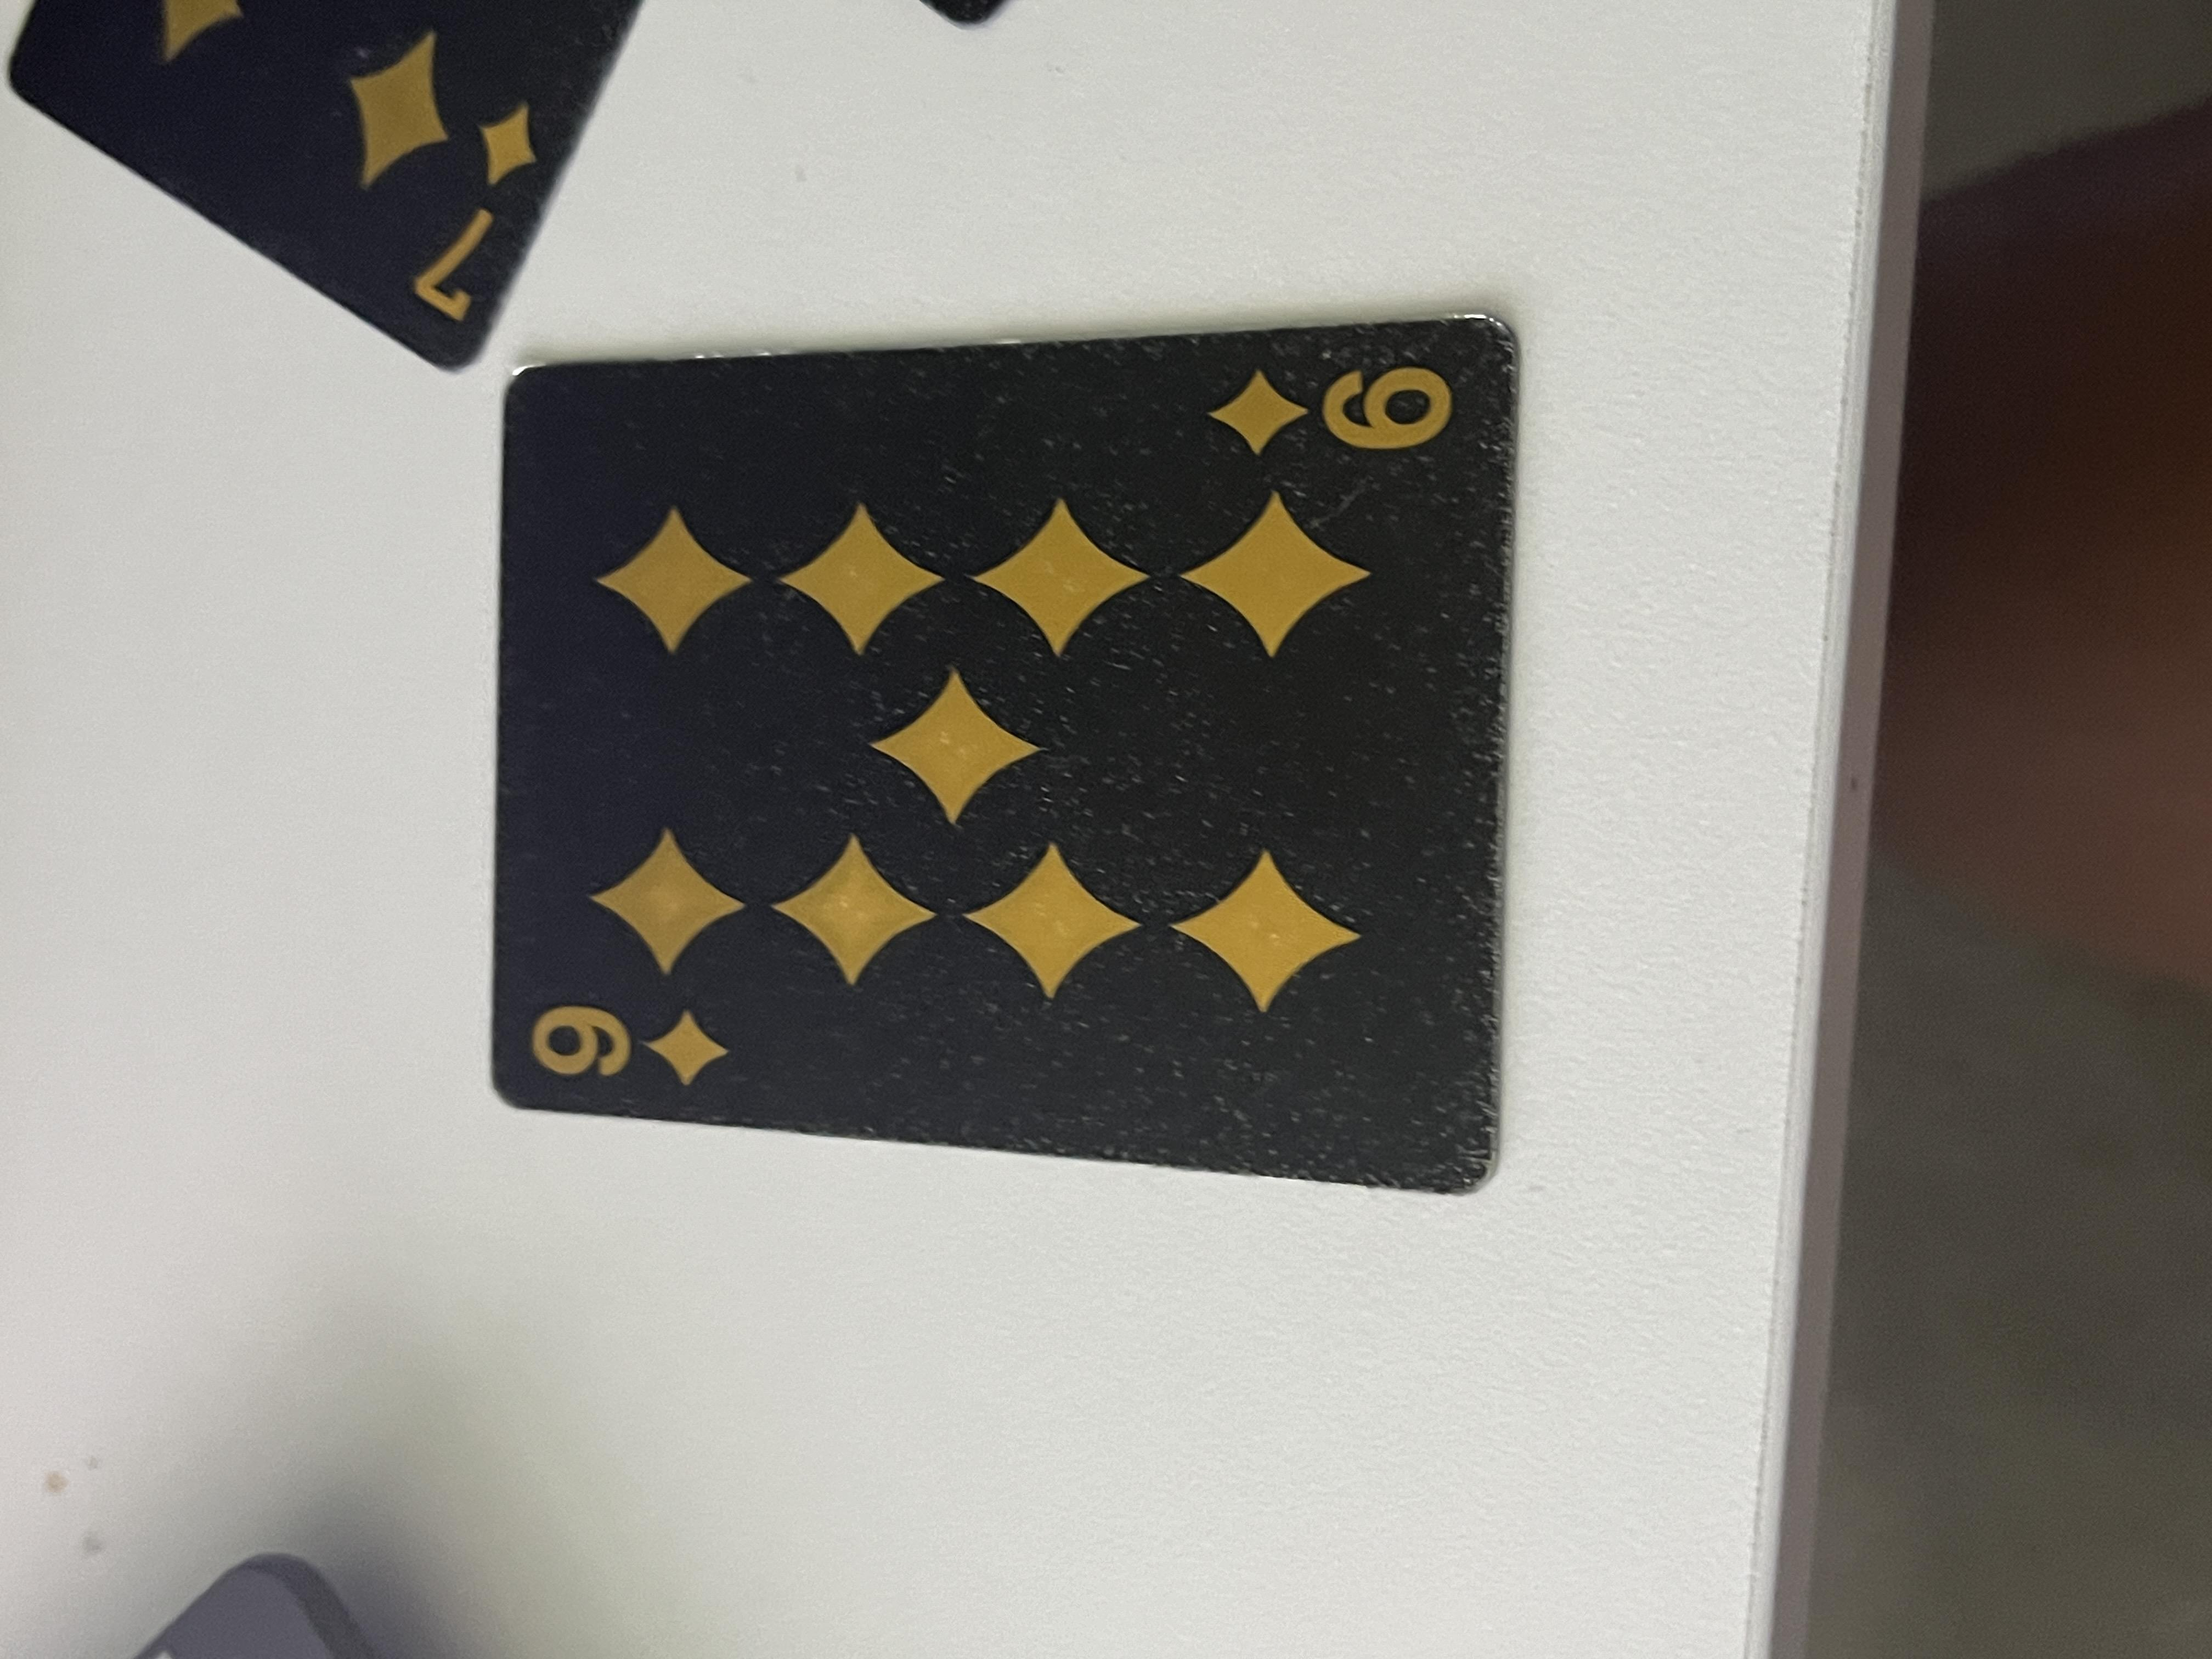7D: (1782, 310, 2099, 420)
9D: (1599, 899, 1745, 1093), (765, 387, 878, 556)
